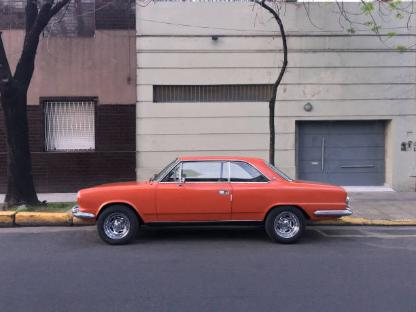car: (70, 148, 356, 246)
